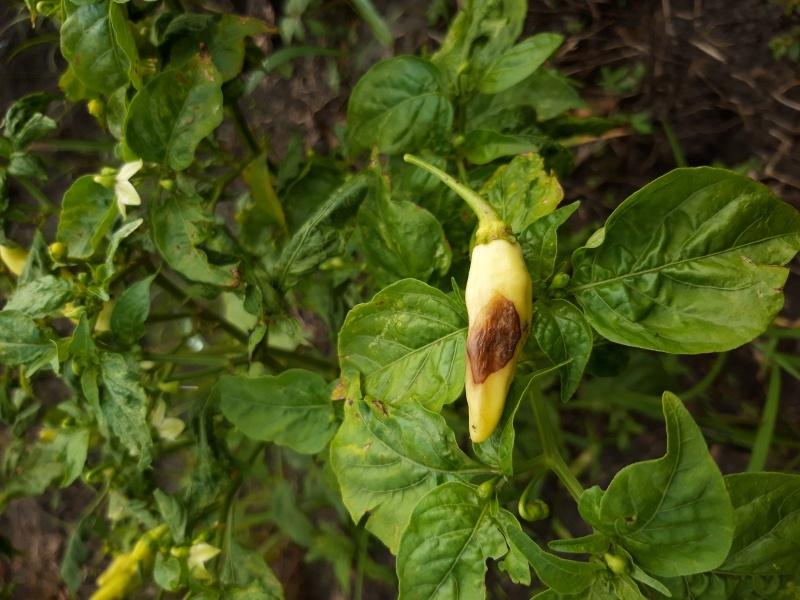antraknosa: (462, 231, 536, 448)
